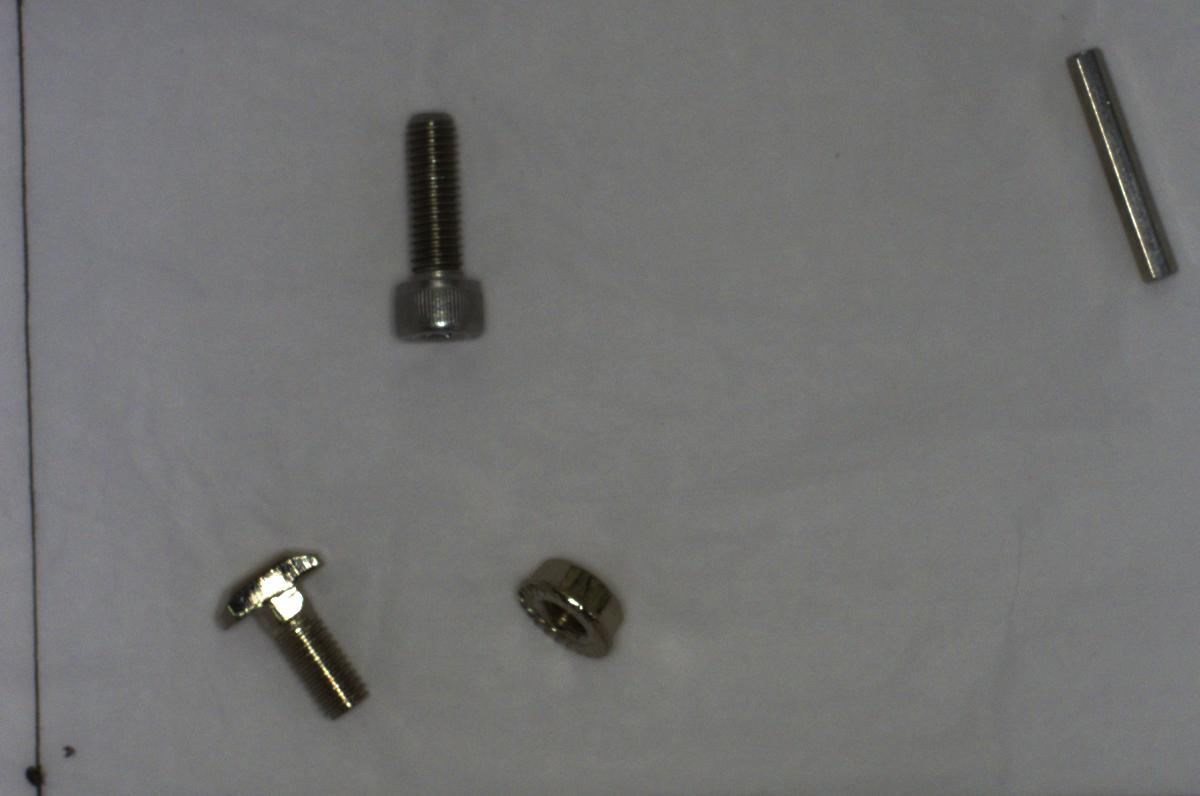Double hexagonal column: (1058, 42, 1182, 295)
Flange nut: (502, 550, 633, 667)
Hexagon screw: (384, 99, 500, 359)
T-shaped screw: (195, 539, 380, 729)
